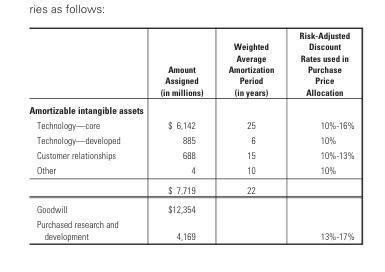table: (28, 29, 353, 241)
table column: (28, 29, 139, 241), (139, 29, 214, 241), (214, 29, 285, 241), (285, 29, 353, 241)
table column header: (28, 29, 353, 100)
table projected row header: (28, 100, 353, 116)
table row: (28, 29, 353, 100), (28, 216, 353, 241), (28, 179, 353, 199), (28, 162, 353, 179), (28, 199, 353, 216), (28, 100, 353, 116), (28, 131, 353, 147), (28, 116, 353, 131), (28, 147, 353, 162)
